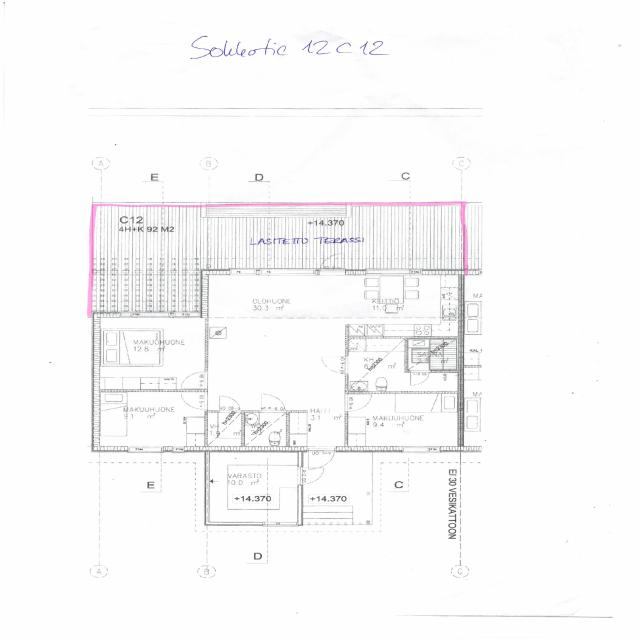door: (308, 446, 334, 470), (320, 252, 344, 275), (181, 372, 208, 389), (181, 393, 208, 410), (298, 468, 326, 484), (322, 357, 348, 373), (345, 395, 371, 411), (262, 394, 284, 412), (220, 396, 240, 413), (411, 370, 428, 386)
